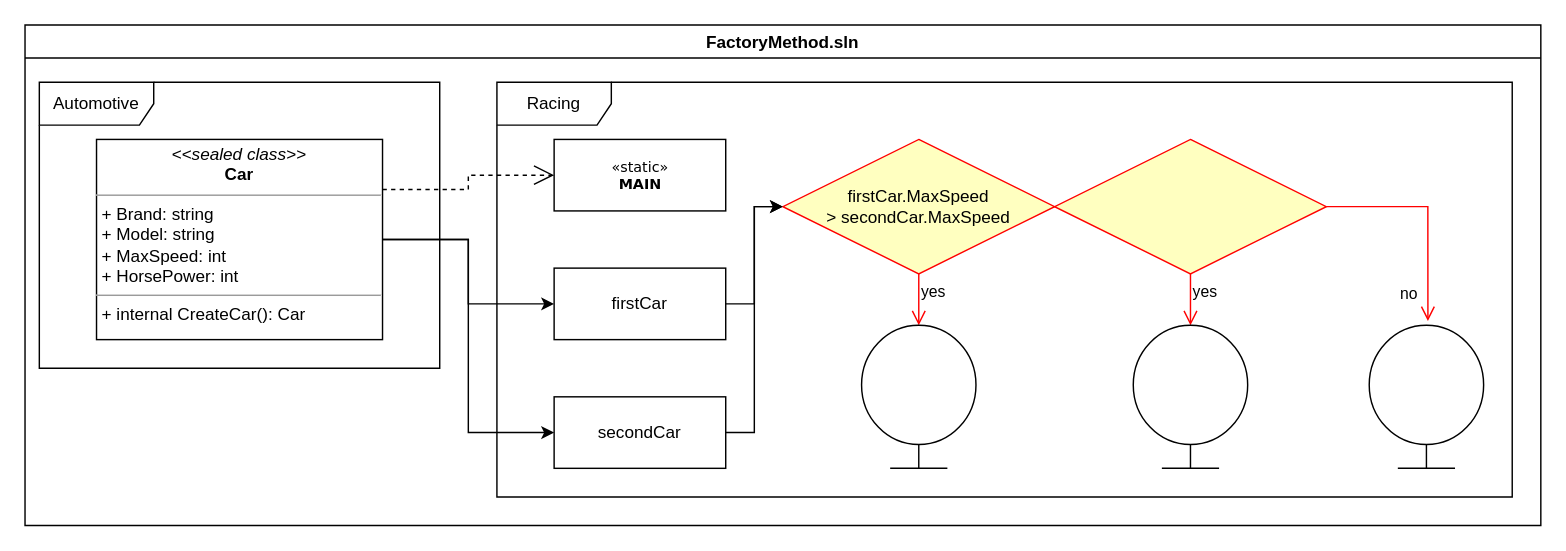
Some shapes in this 1566 by 551 pixel diagram are drawn without their labels. The centre of each missing label's shape, as x and y in pixels:
firstCar wins: pixel 918 396
firstCar.MaxSpeed < secondCar.MaxSpeed: pixel 1189 206
secondCar wins: pixel 1190 396
Tie: pixel 1426 396
